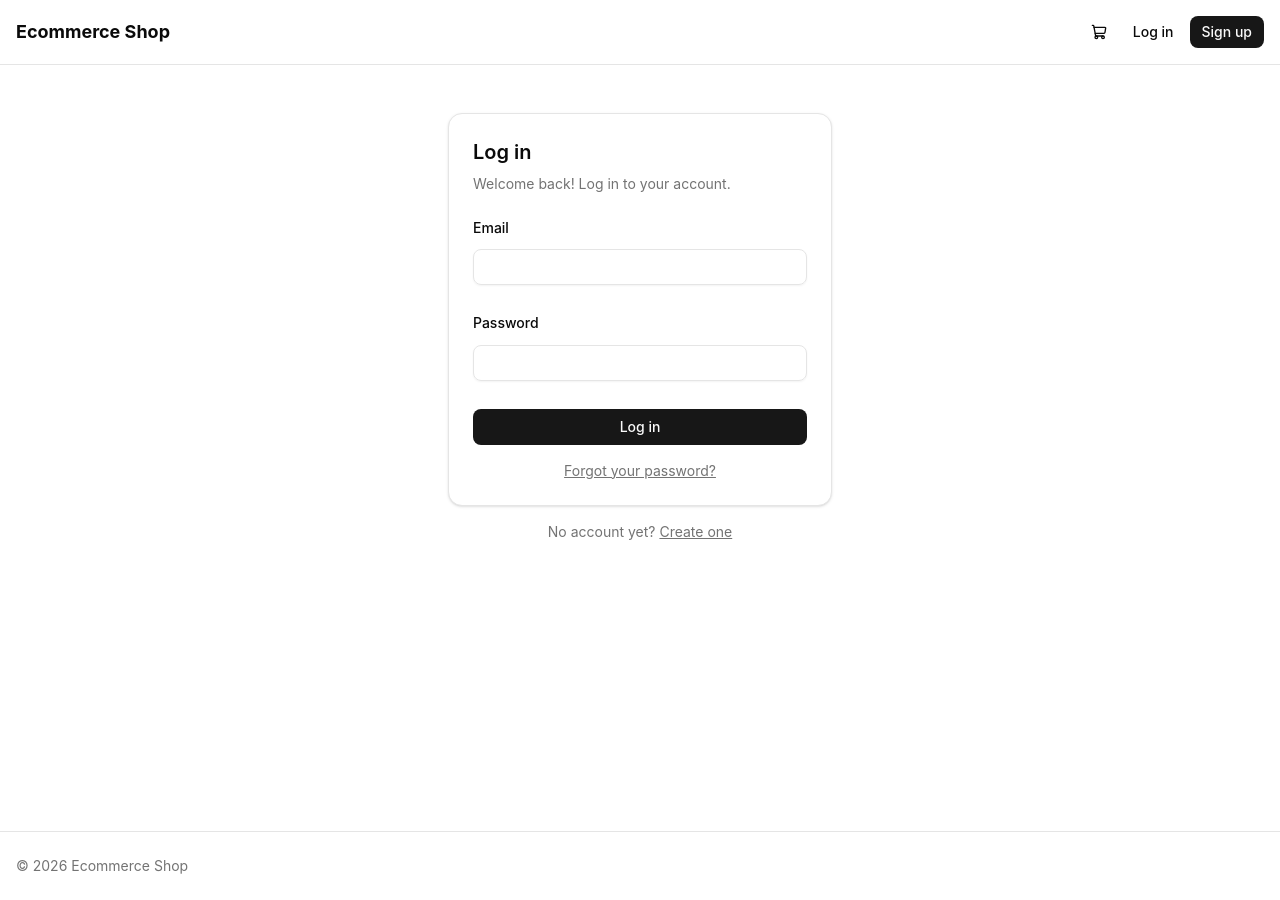
Scenario: login page › logs in and returns to the page the user wanted to see
Type " jane@example.com " into the field labelled "Email" at (640, 267), box x1=473 y1=249 x2=807 y2=285
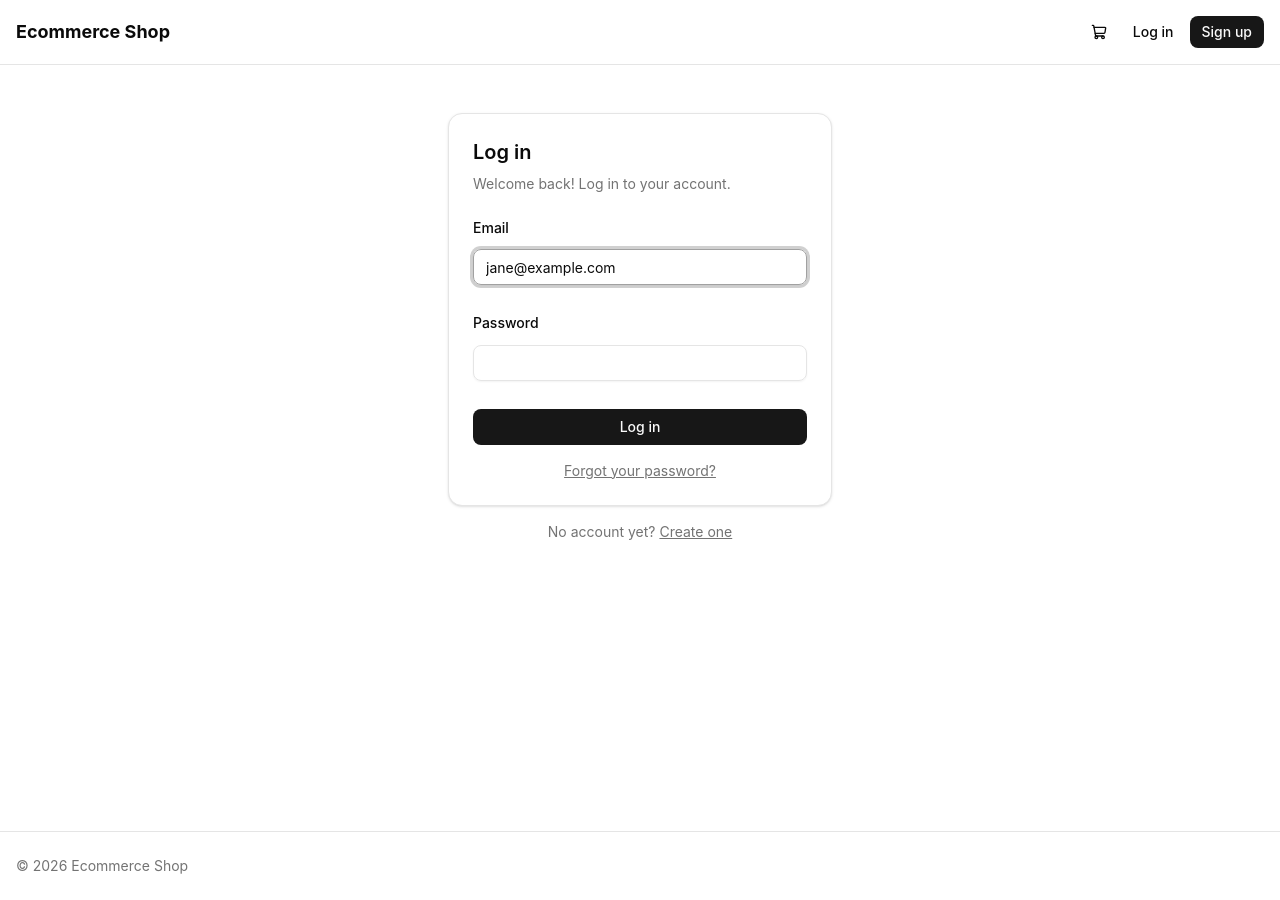
Type "secret123" into the password field labelled "Password" at (640, 362), box x1=473 y1=344 x2=807 y2=380
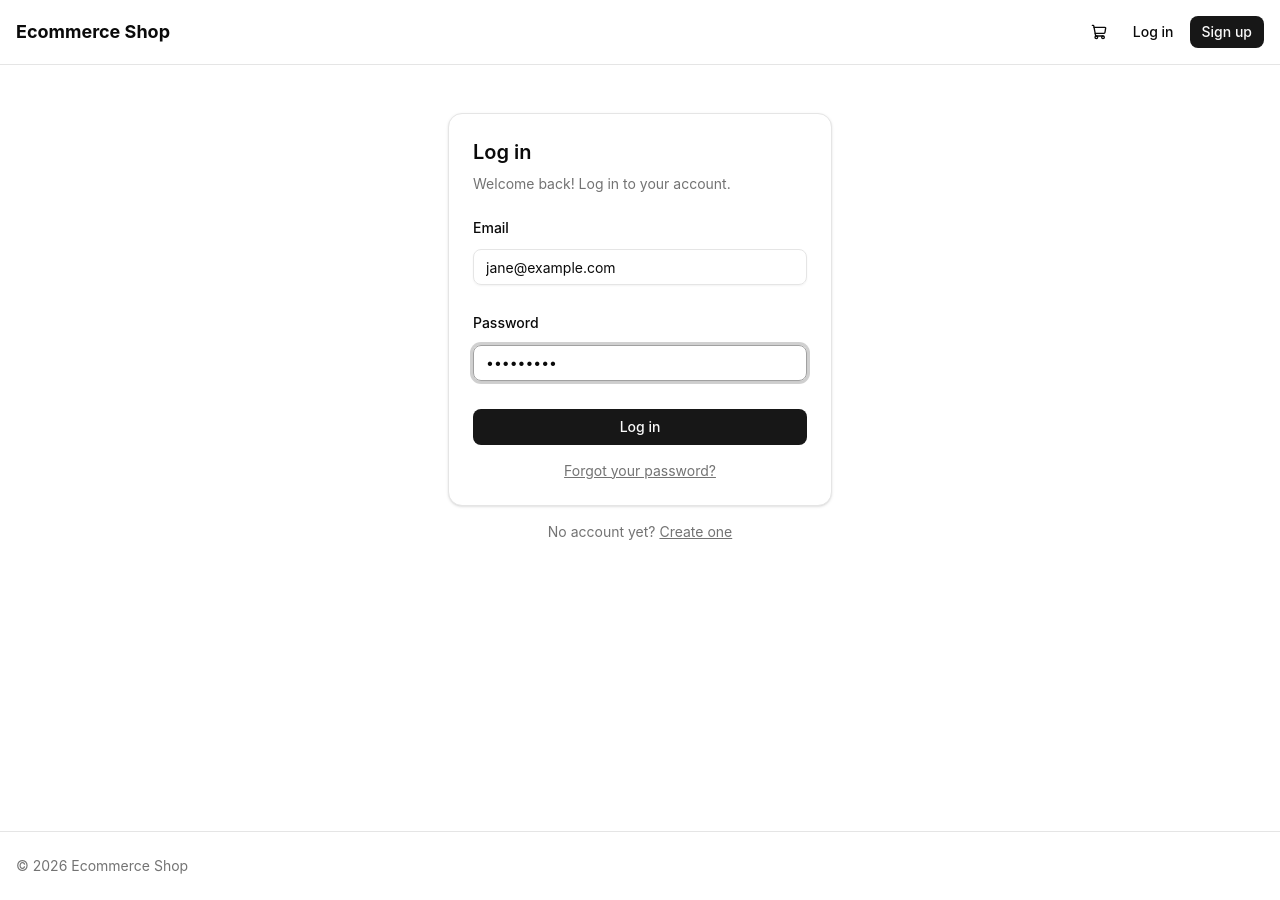
Click the button "Log in" at (640, 426), box x1=473 y1=408 x2=807 y2=444
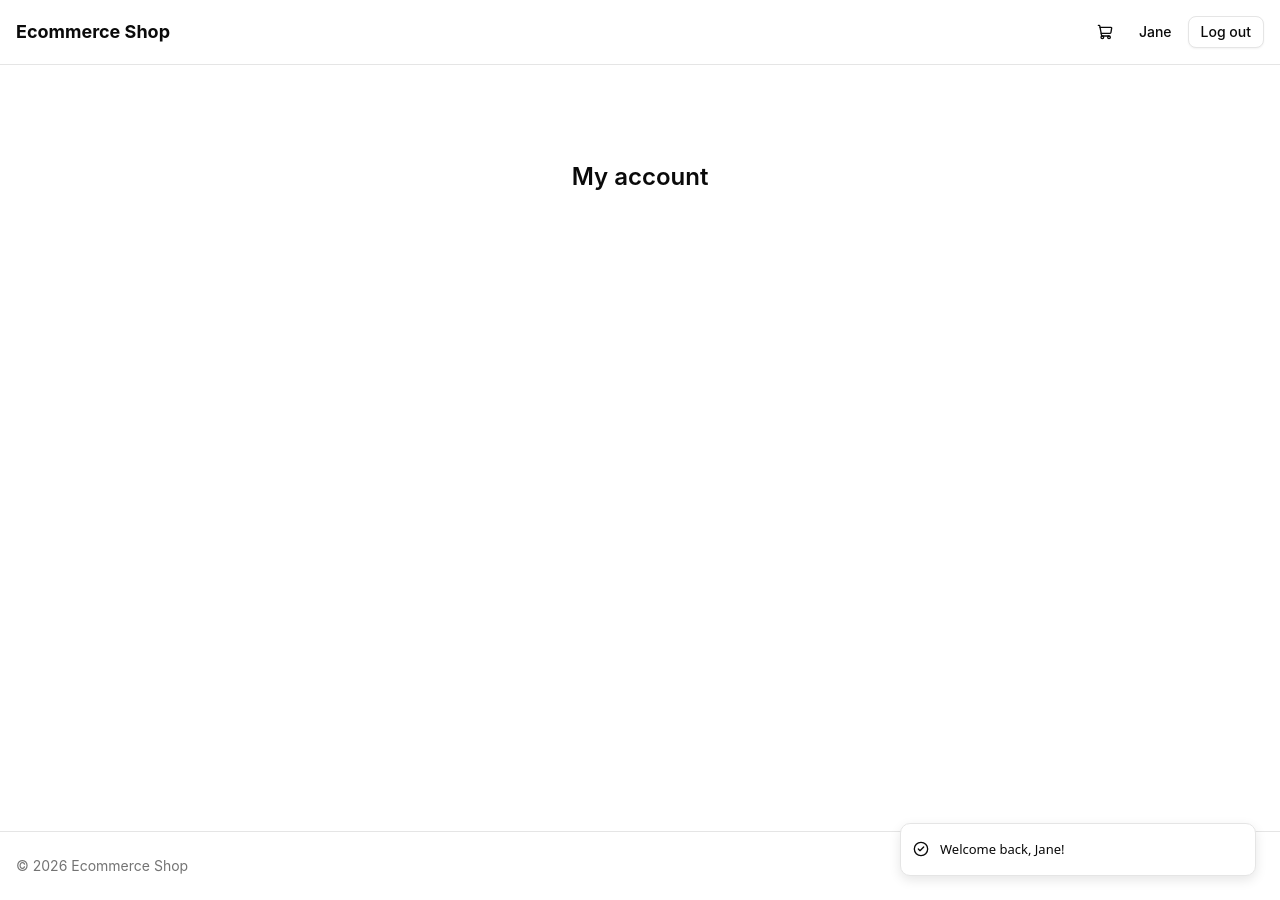
Check: the text "Welcome back, Jane!" is shown, box x1=940 y1=840 x2=1064 y2=859
